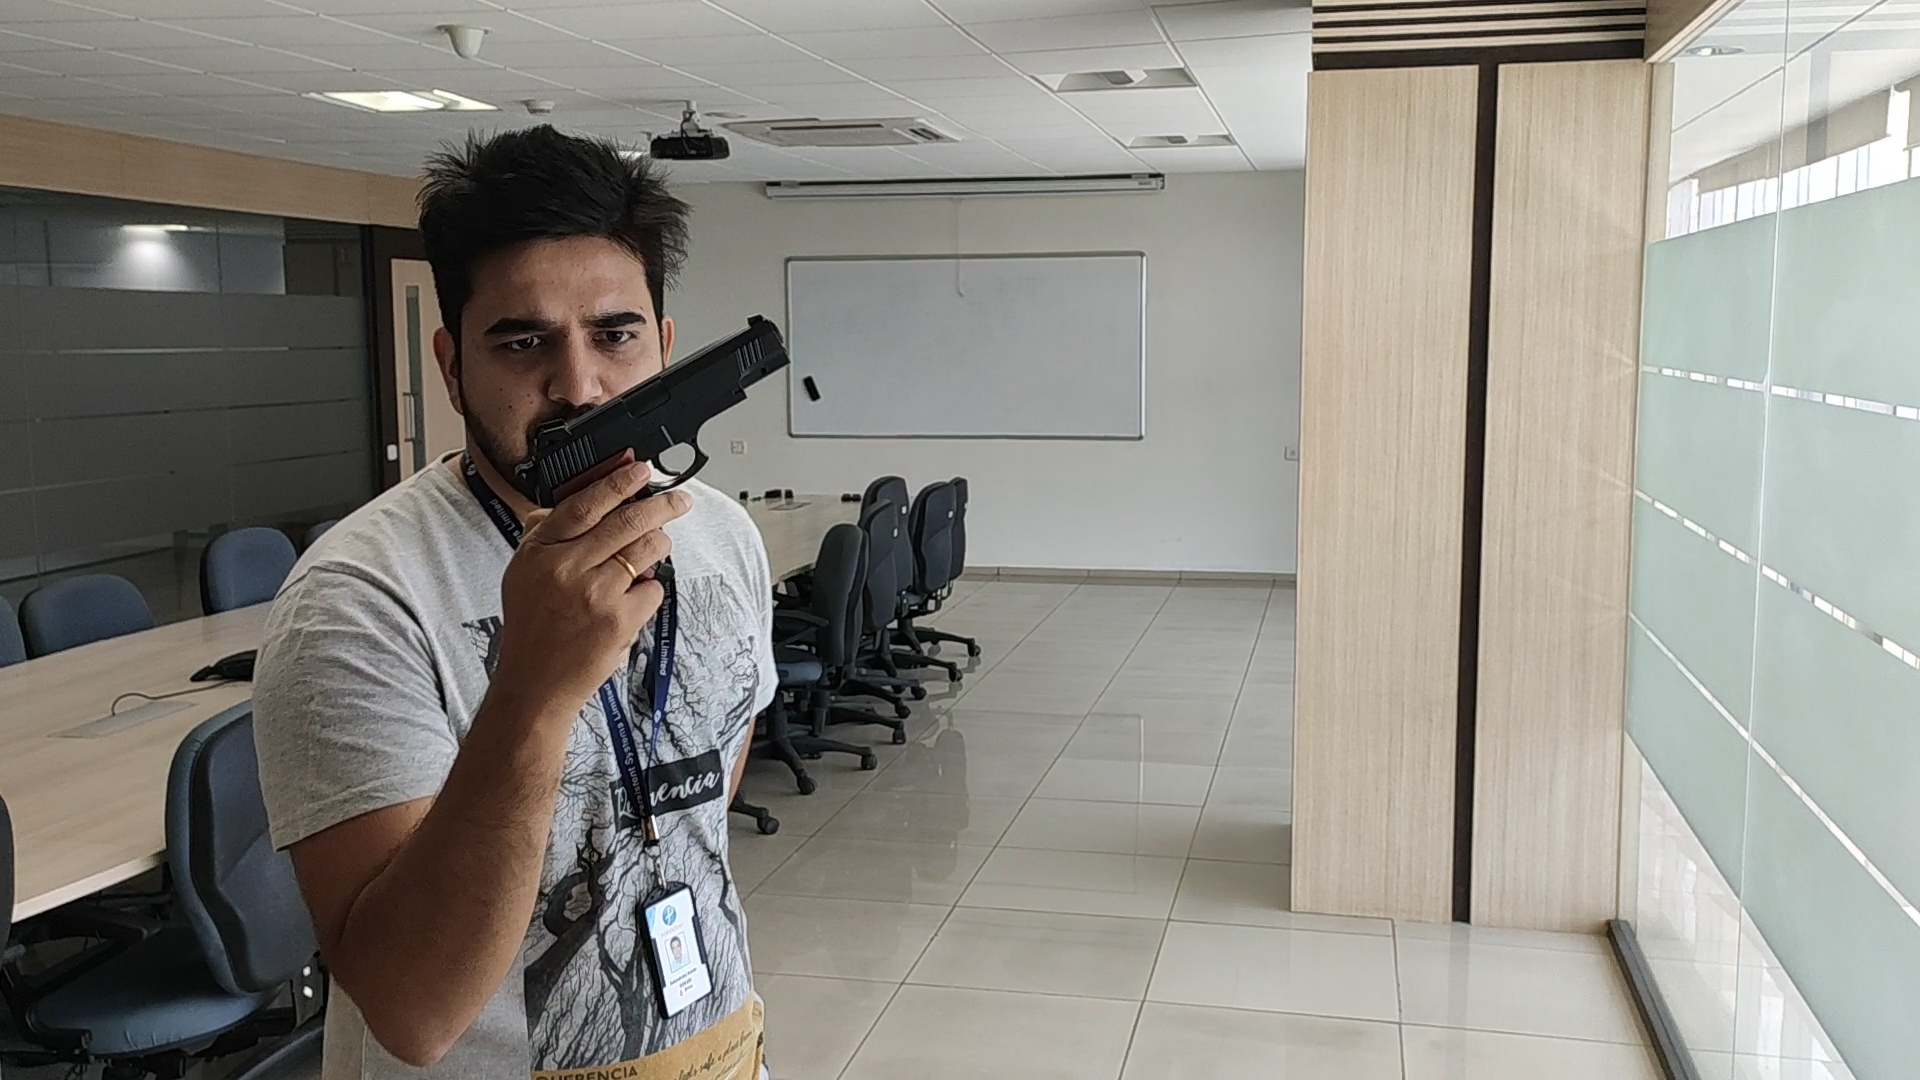gun: (529, 313, 791, 462)
